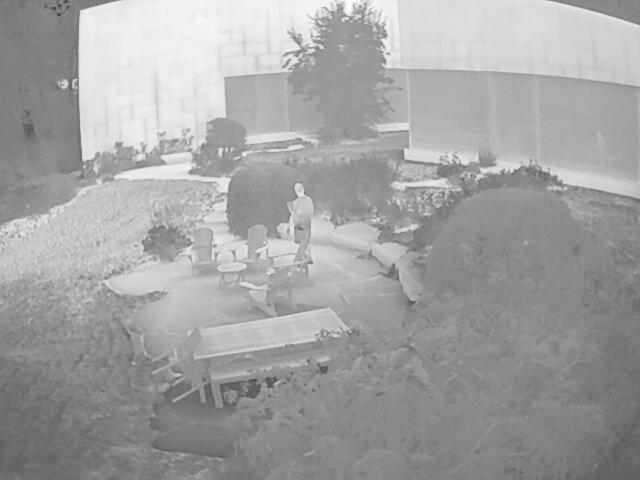person: (288, 182, 316, 270)
